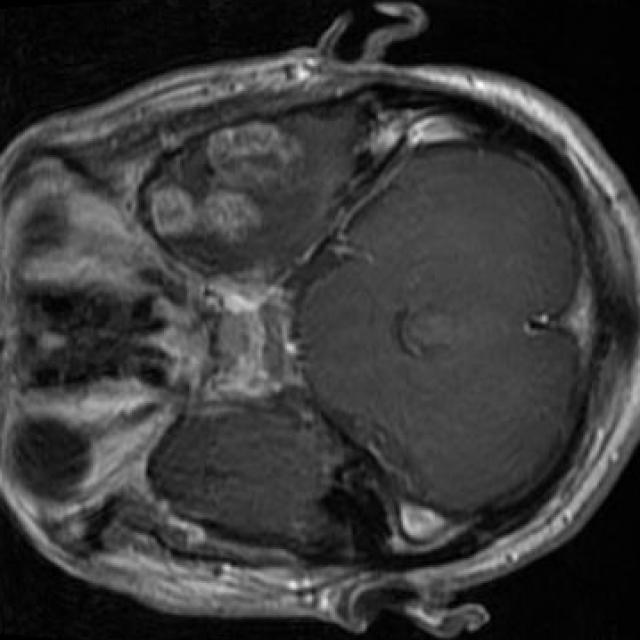glioma: (152, 125, 301, 241)
